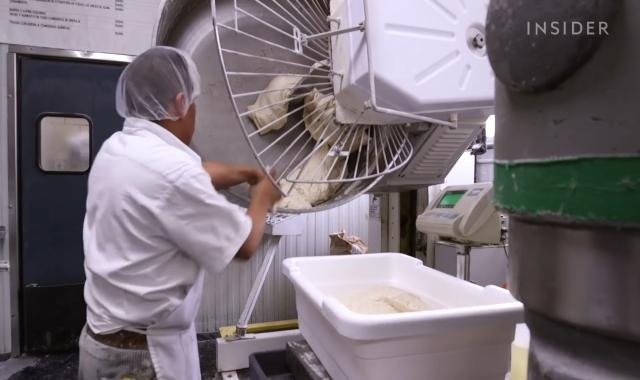hairnet: (116, 46, 200, 123)
